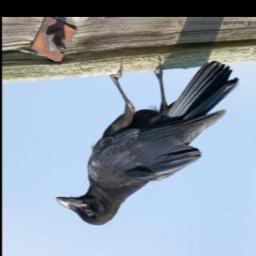Crow: (55, 61, 239, 226)
